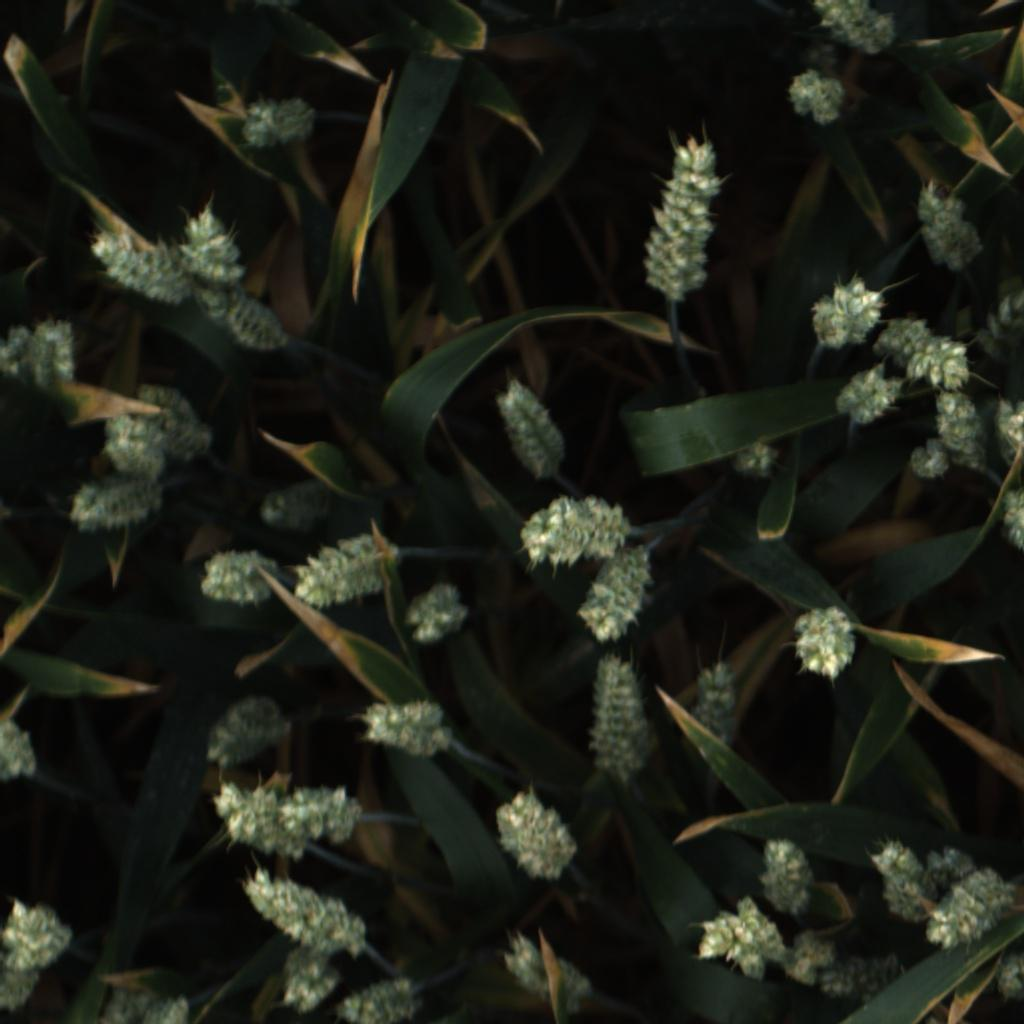0-0: (637, 130, 726, 302), (239, 865, 371, 958), (583, 646, 658, 786), (515, 487, 630, 572), (488, 783, 582, 886), (90, 226, 206, 309), (292, 529, 404, 612), (499, 921, 592, 1018), (487, 375, 571, 482), (921, 862, 1019, 953), (870, 310, 976, 394), (694, 892, 790, 980), (208, 777, 311, 859), (574, 552, 660, 646), (201, 685, 291, 771), (193, 279, 294, 355), (906, 183, 991, 273), (811, 939, 916, 1010), (351, 691, 455, 762), (134, 378, 223, 460), (805, 270, 889, 355), (928, 384, 1002, 474), (751, 828, 823, 919), (178, 204, 254, 287), (273, 781, 363, 851), (61, 475, 164, 536), (789, 604, 866, 683), (99, 409, 177, 483), (0, 894, 73, 970), (830, 363, 909, 432), (805, 2, 911, 53), (400, 577, 474, 650), (193, 546, 279, 608), (256, 475, 340, 535), (334, 969, 420, 1024), (271, 947, 341, 1014), (782, 65, 853, 129), (235, 98, 315, 154), (972, 280, 1024, 366), (690, 661, 739, 750), (778, 921, 845, 986), (29, 315, 78, 394), (865, 832, 931, 888), (0, 711, 43, 789), (724, 435, 789, 486), (984, 388, 1024, 468), (878, 875, 938, 928), (925, 840, 979, 894), (907, 437, 956, 492), (0, 959, 47, 1015), (990, 486, 1024, 559), (93, 980, 148, 1024), (0, 322, 36, 384), (992, 948, 1024, 1008), (141, 989, 195, 1024)
